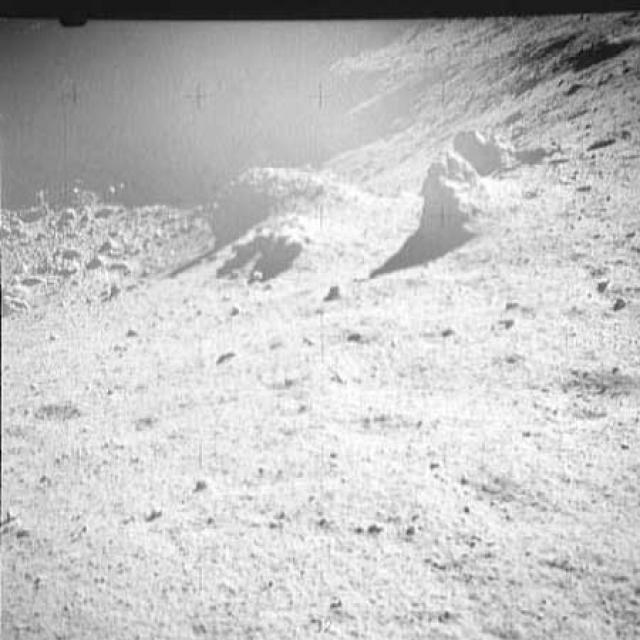rock: (193, 164, 333, 276), (412, 150, 483, 246), (458, 122, 518, 174), (236, 226, 304, 266)
